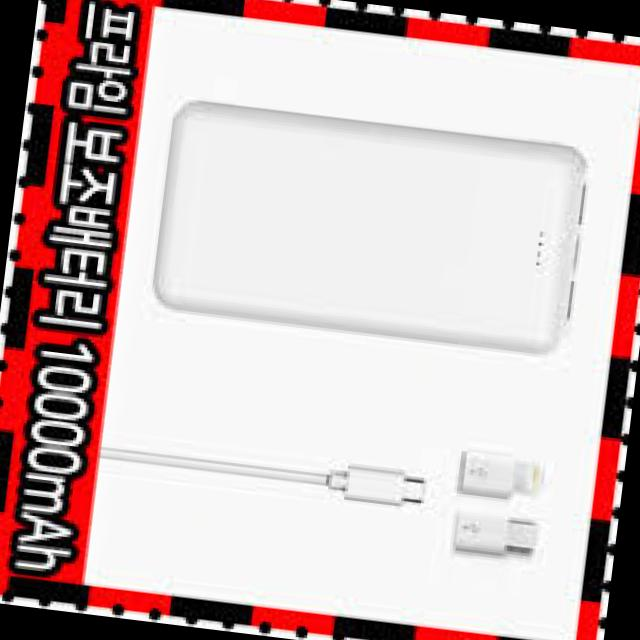portable-charger: (146, 95, 594, 362)
